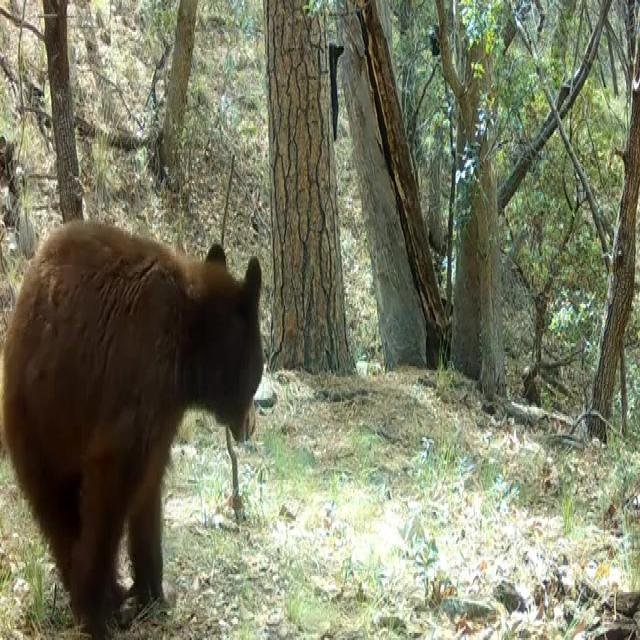bear face: (1, 219, 263, 640), (328, 40, 343, 139)
